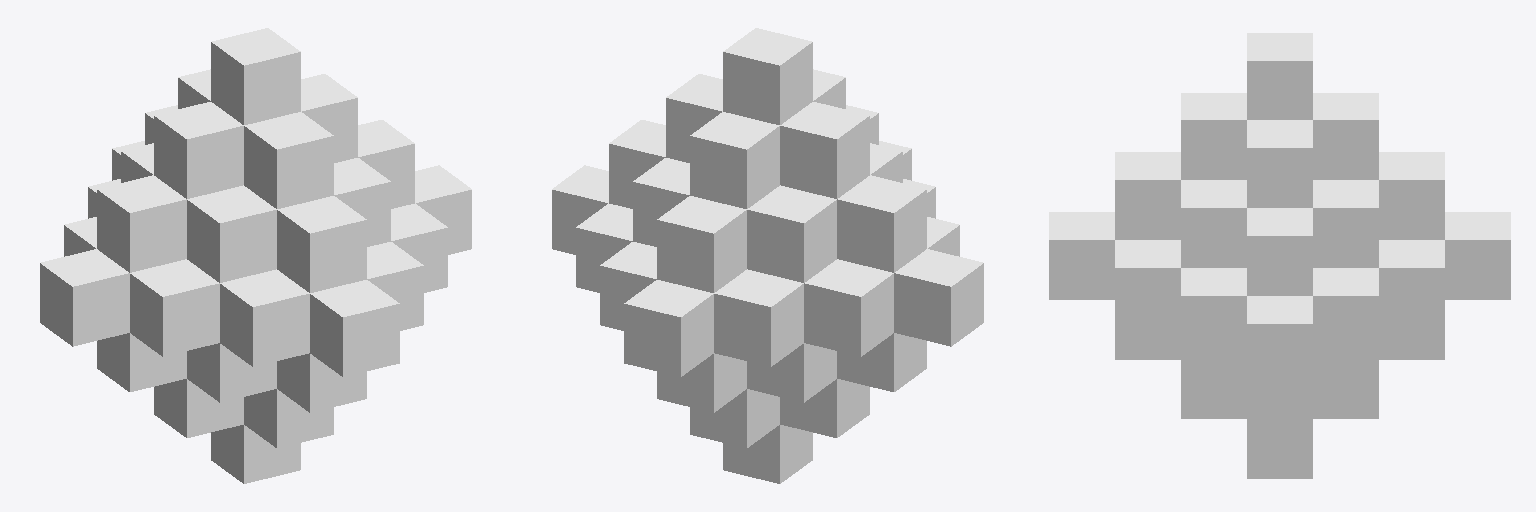
File: diamond.obj
3 renders of one model, left to right at view 1: azimuth 30°, elevation 25°; view 2: azimuth 150°, elevation 25°; view 3: azimuth 270°, elevation 25°, orthographic.
Visible parts, largest first — view 1: GPA_World__-260_84_-516_to_-254_90_-510; view 2: GPA_World__-260_84_-516_to_-254_90_-510; view 3: GPA_World__-260_84_-516_to_-254_90_-510.
Boxes of the visible parts, x1,y1,x2,y2 form: GPA_World__-260_84_-516_to_-254_90_-510: [40, 28, 471, 483]; GPA_World__-260_84_-516_to_-254_90_-510: [552, 28, 983, 483]; GPA_World__-260_84_-516_to_-254_90_-510: [1049, 33, 1510, 478].
Size of the model in its own units: 0.7 by 0.7 by 0.7.